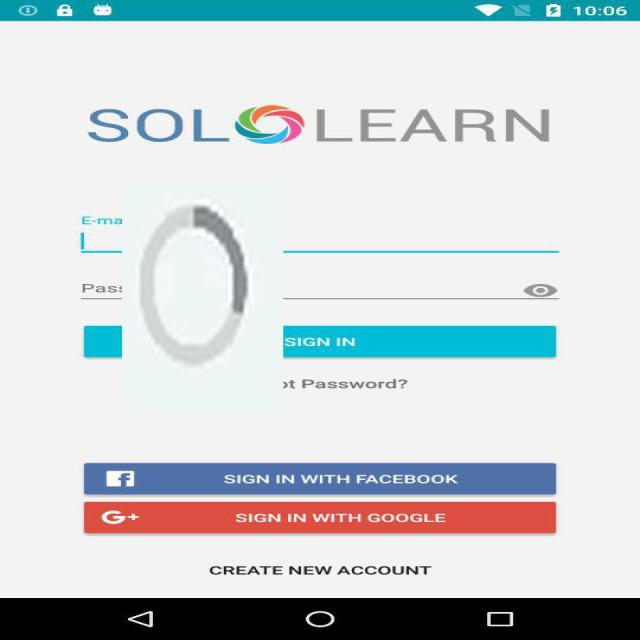misdirection: (122, 180, 283, 414)
